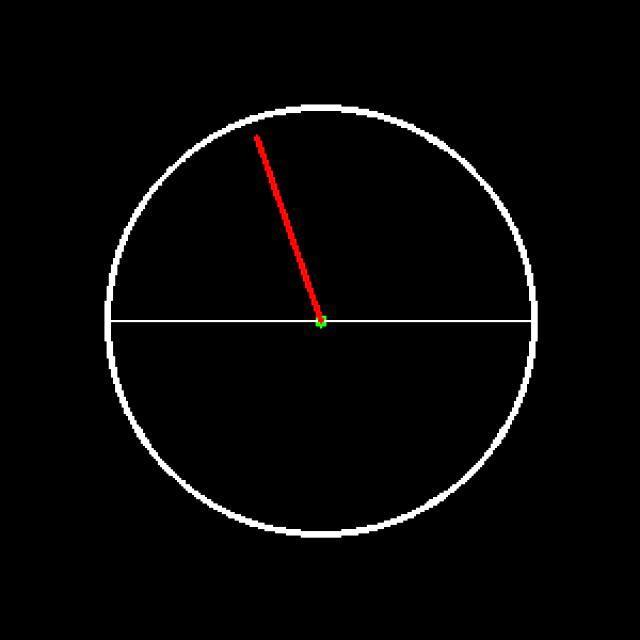Needle_Tip: (239, 121, 280, 168)
Needle_base: (284, 298, 357, 360)
